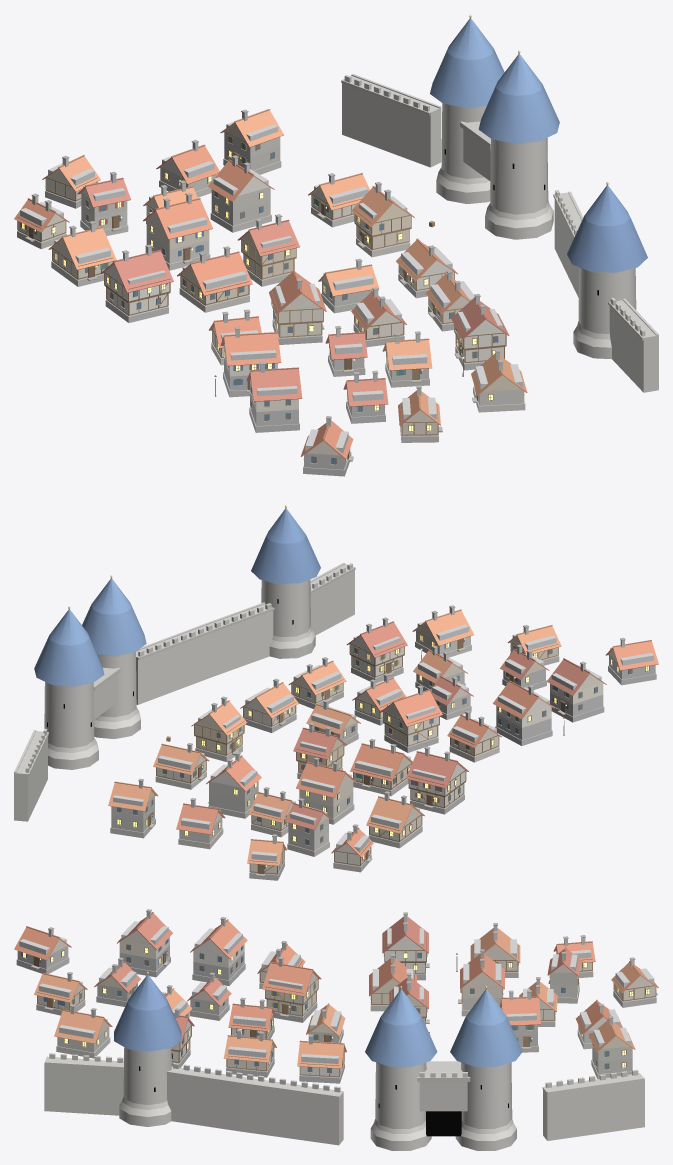
The model's file is struct_9_8.glb.
The picture shows the model from 3 angles, top to bottom: view 1: azimuth 30°, elevation 25°; view 2: azimuth 150°, elevation 25°; view 3: azimuth 270°, elevation 25°; orthographic projection. The views are drawn at different scales.
Parts seen in each view (by area): view 1: HousesNear, Landmarks, Occluder-occonly, HousesFar; view 2: HousesNear, Landmarks, Occluder-occonly, HousesFar; view 3: Landmarks, HousesNear, Occluder-occonly, HousesFar.
Boxes of the visible parts, x1,y1,x2,y2 form: HousesNear: (14, 109, 527, 476); Landmarks: (214, 14, 658, 396); Occluder-occonly: (20, 121, 522, 453); HousesFar: (31, 155, 503, 396); HousesNear: (108, 609, 658, 880); Landmarks: (14, 505, 564, 821); Occluder-occonly: (113, 621, 653, 861); HousesFar: (201, 605, 568, 869); Landmarks: (44, 953, 644, 1150); HousesNear: (14, 909, 658, 1083); Occluder-occonly: (19, 921, 654, 1063); HousesFar: (39, 922, 585, 1041).
Size of the model in its own units: 96.59 by 35.06 by 134.
